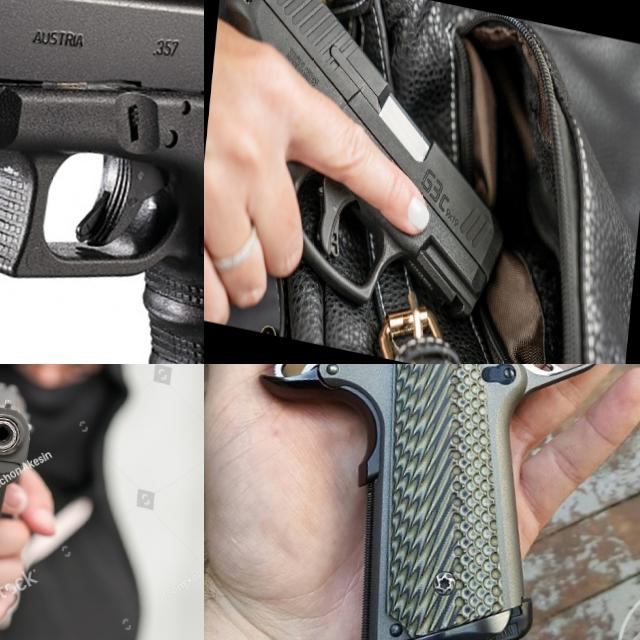handgun: (215, 364, 640, 640), (204, 0, 531, 347), (0, 0, 204, 364), (0, 377, 44, 540)
